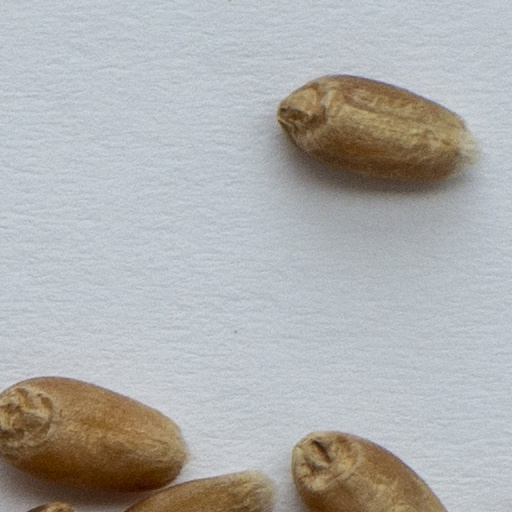Wheat-grain-poly: (278, 76, 477, 183)
